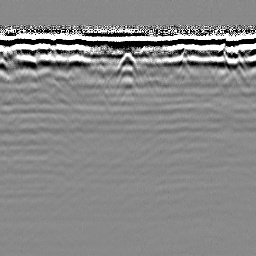cavity: (115, 50, 139, 75)
